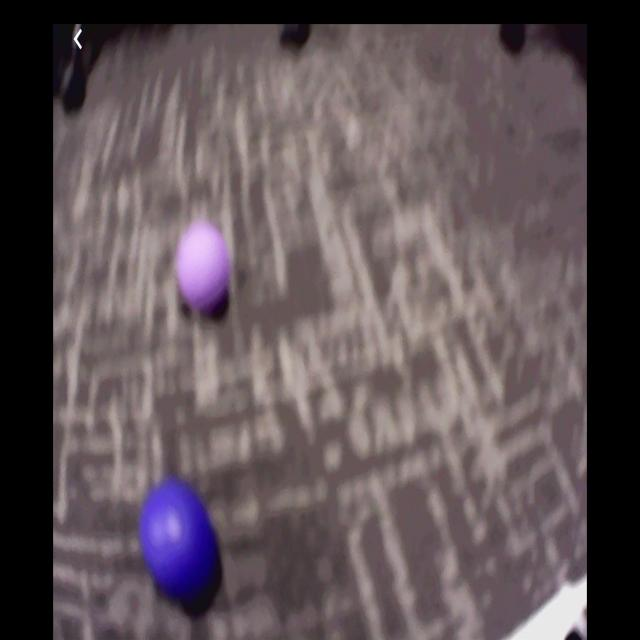ball: (143, 482, 215, 603), (177, 219, 233, 314)
